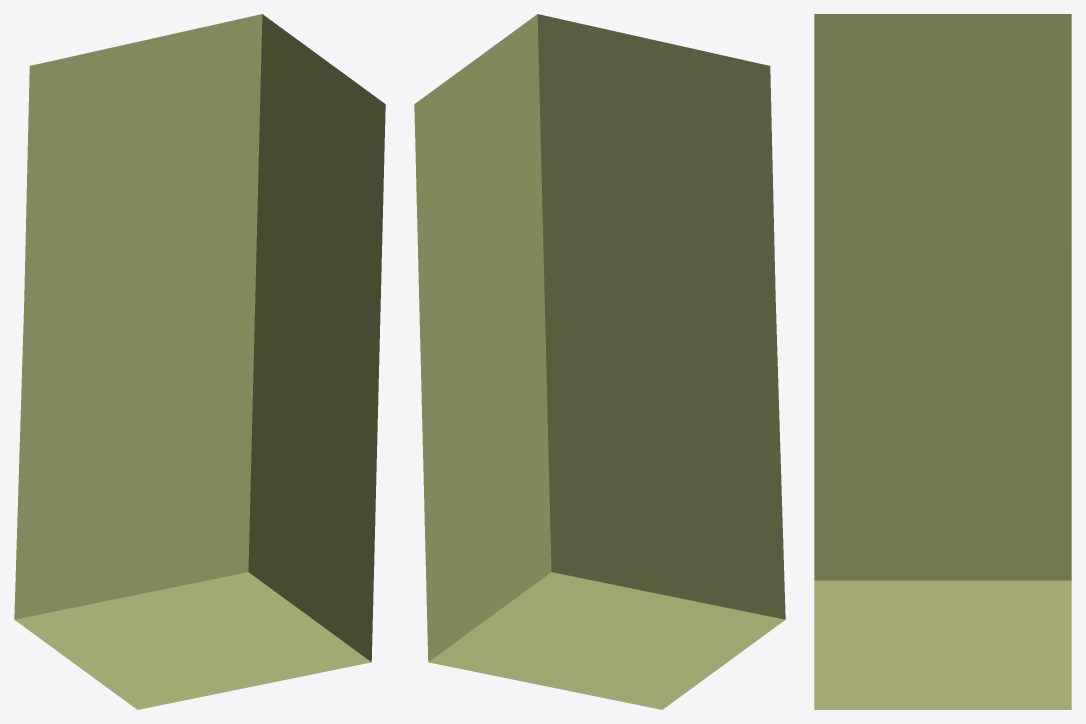
3 views of the same model, side by side, from view 1: azimuth 30°, elevation 25°; view 2: azimuth 150°, elevation 25°; view 3: azimuth 270°, elevation 25° (orthographic). The views are drawn at different scales.
Visible parts, largest first — view 1: 0_0_2_0_1_1_1_0_1; view 2: 0_0_2_0_1_1_1_0_1; view 3: 0_0_2_0_1_1_1_0_1.
Boxes of the visible parts, box(x1,y1,x2,y2) form: 0_0_2_0_1_1_1_0_1: box(14, 14, 385, 709); 0_0_2_0_1_1_1_0_1: box(414, 14, 785, 709); 0_0_2_0_1_1_1_0_1: box(814, 14, 1071, 709).
Size of the model in its own units: 6.97 by 15.02 by 6.
